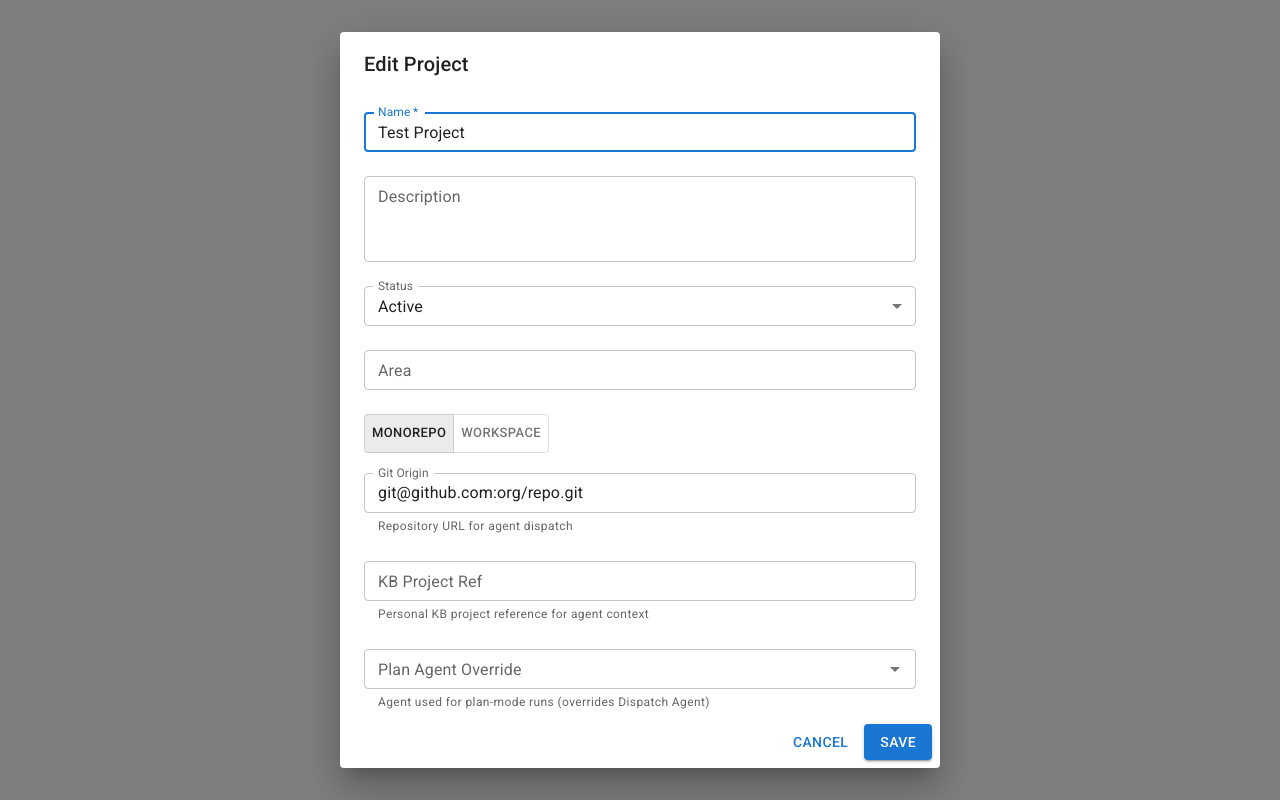
Test: ProjectEditDialog › (h) pre-seed workspace repo list from existing gitOrigin on monorepo→workspace toggle › (4) edit mode, monorepo with gitOrigin AND pre-existing non-empty workspaceRepos → click Workspace → list unchanged
Click the button "Workspace". click: (501, 433)
box: [453, 414, 549, 453]
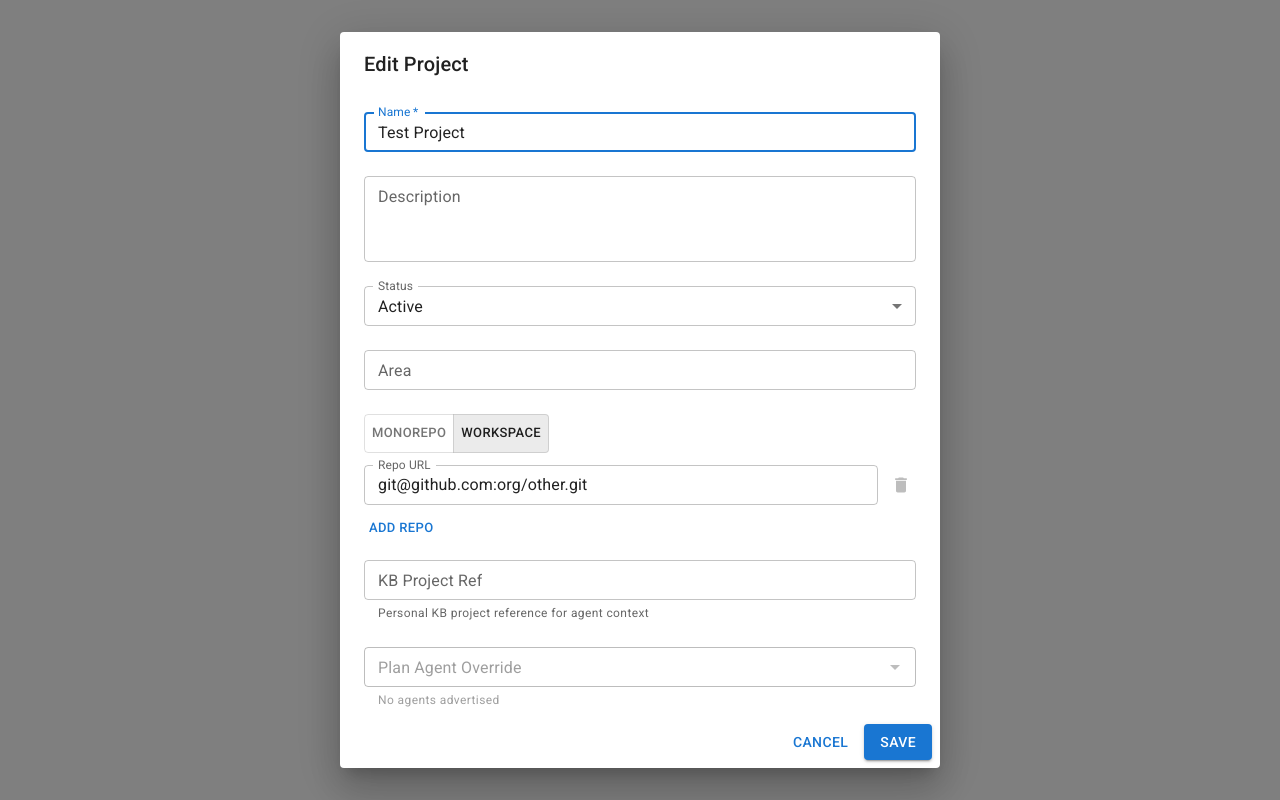
Check: the label labelled "Git Origin" is gone
Check: the number of fields labelled "Repo URL" is 1, box [364, 465, 878, 505]
Check: the field labelled "Repo URL" holds "git@github.com:org/other.git", box [364, 465, 878, 505]
